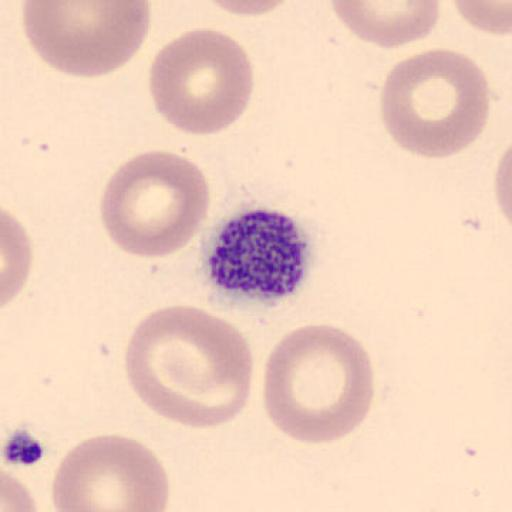Platelet: (199, 204, 319, 309)
RBC: (124, 303, 254, 430), (262, 322, 377, 446), (98, 148, 212, 260), (379, 47, 490, 160), (148, 27, 256, 138), (21, 1, 153, 78), (50, 433, 172, 512), (328, 0, 440, 49), (1, 208, 33, 310), (451, 0, 512, 38), (492, 140, 512, 231), (1, 468, 40, 512), (200, 0, 294, 18), (493, 148, 512, 226)
